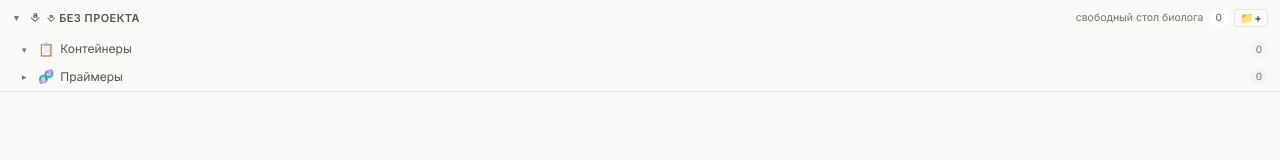
it: K2 — LooseZone (post 09.05.2026 structural sub-folders) › «📁+» header button creates a user folder via createLooseFolder
Click the button with test id "loose-zone-add-folder-btn" at (1251, 18), box [1234, 9, 1268, 27]
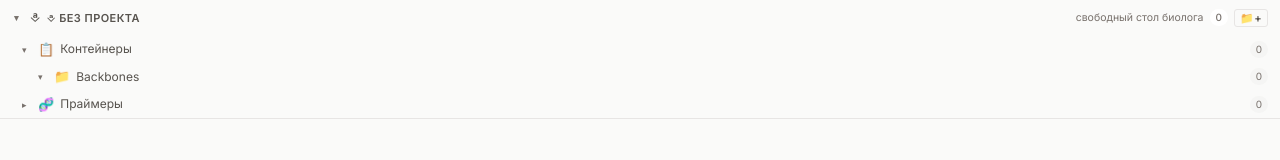
expect the button with test id "tree-folder-loose-user-Backbones" is shown: met, box [0, 63, 1279, 90]
